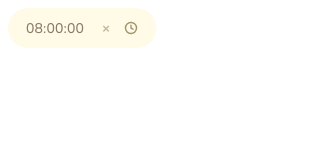
Test case: TimePicker › disabled / clear / 步进 › allowClear 显示清除按钮并清空
Click the button named "清除时间".
click(106, 28)  # box [96,18,116,38]
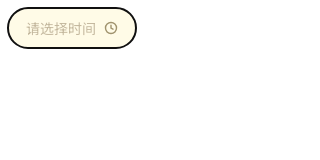
Expected: the text "请选择时间" is shown, [26,18,96,38]
